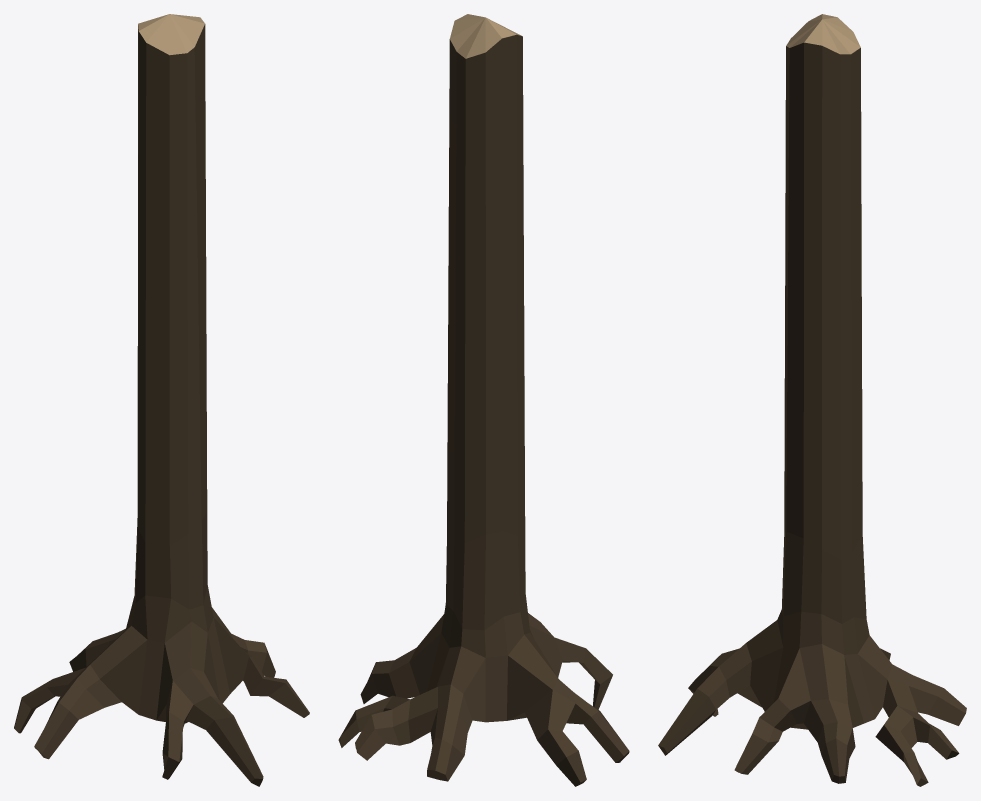
The model's file is SM_Env_Tree_Base_02.glb.
The picture shows the model from 3 angles, left to right: view 1: azimuth 30°, elevation 25°; view 2: azimuth 150°, elevation 25°; view 3: azimuth 270°, elevation 25°; orthographic projection.
Parts seen in each view (by area): view 1: SM_Env_Tree_Base_02; view 2: SM_Env_Tree_Base_02; view 3: SM_Env_Tree_Base_02.
Boxes of the visible parts, x1,y1,x2,y2 form: SM_Env_Tree_Base_02: (14, 14, 309, 786); SM_Env_Tree_Base_02: (338, 14, 629, 786); SM_Env_Tree_Base_02: (658, 14, 966, 786).
Bounding box in the file's own units: 0.0301 × 0.0819 × 0.0314.
